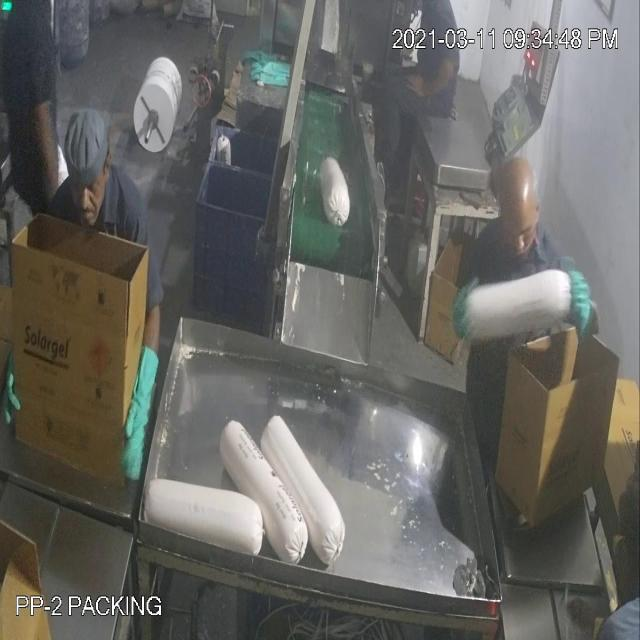gloves: (124, 335, 164, 495), (564, 261, 602, 354)
no-gloves: (401, 58, 459, 113)
